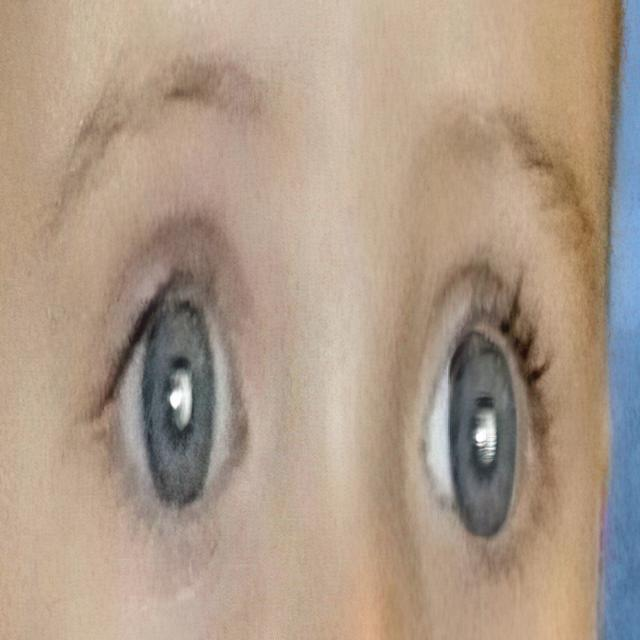reflexo-alterado: (402, 248, 566, 608), (95, 298, 252, 526)
